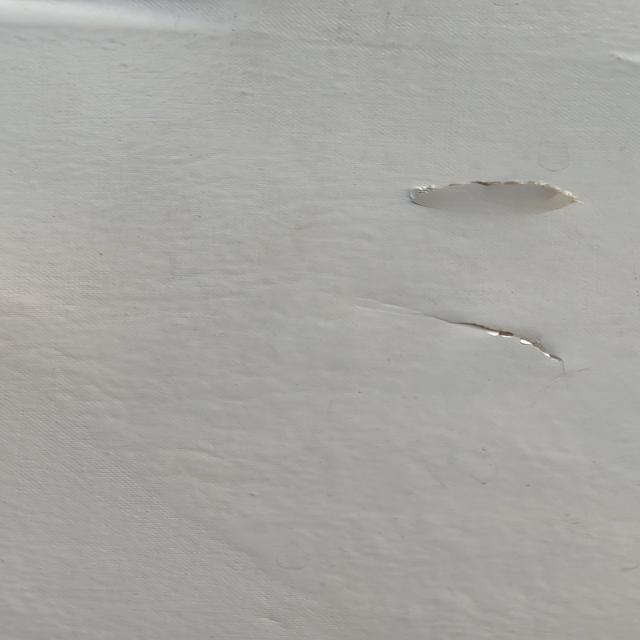Scratches: (363, 279, 595, 381), (355, 164, 598, 220)
